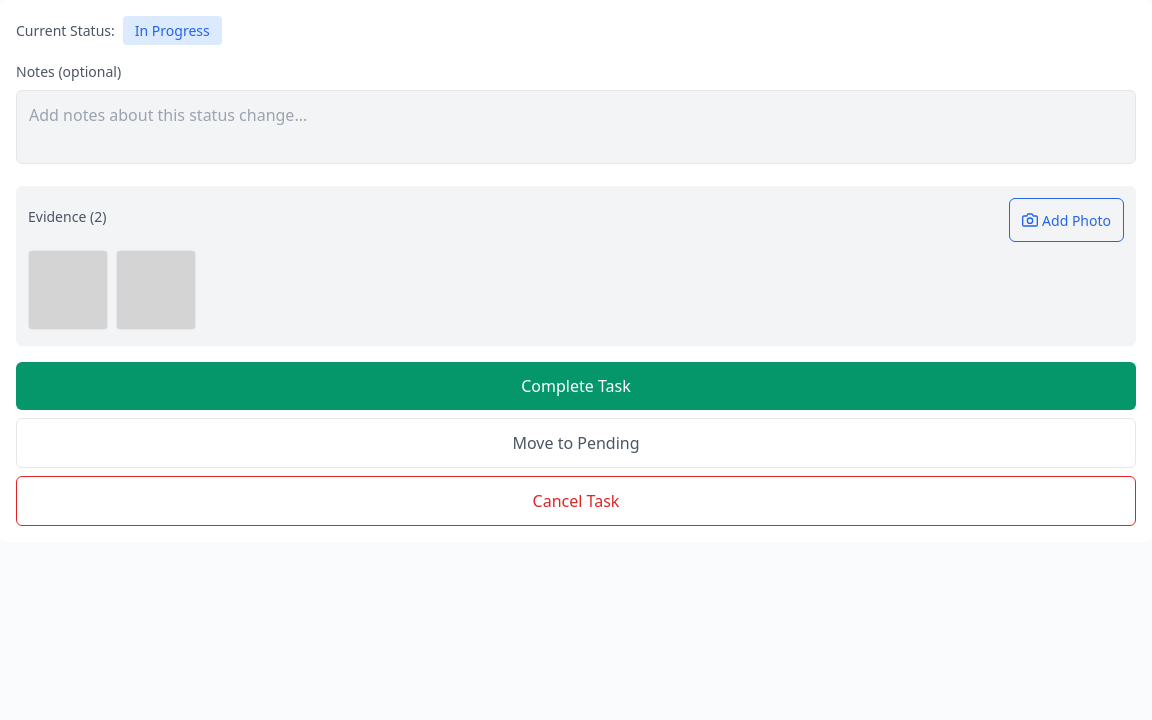
Test case: TaskStatusUpdater - Evidence › shows evidence summary in completion confirmation
// Open confirmation
Click the button with test id "status-button-completed": point(576, 386) [16,362,1136,410]
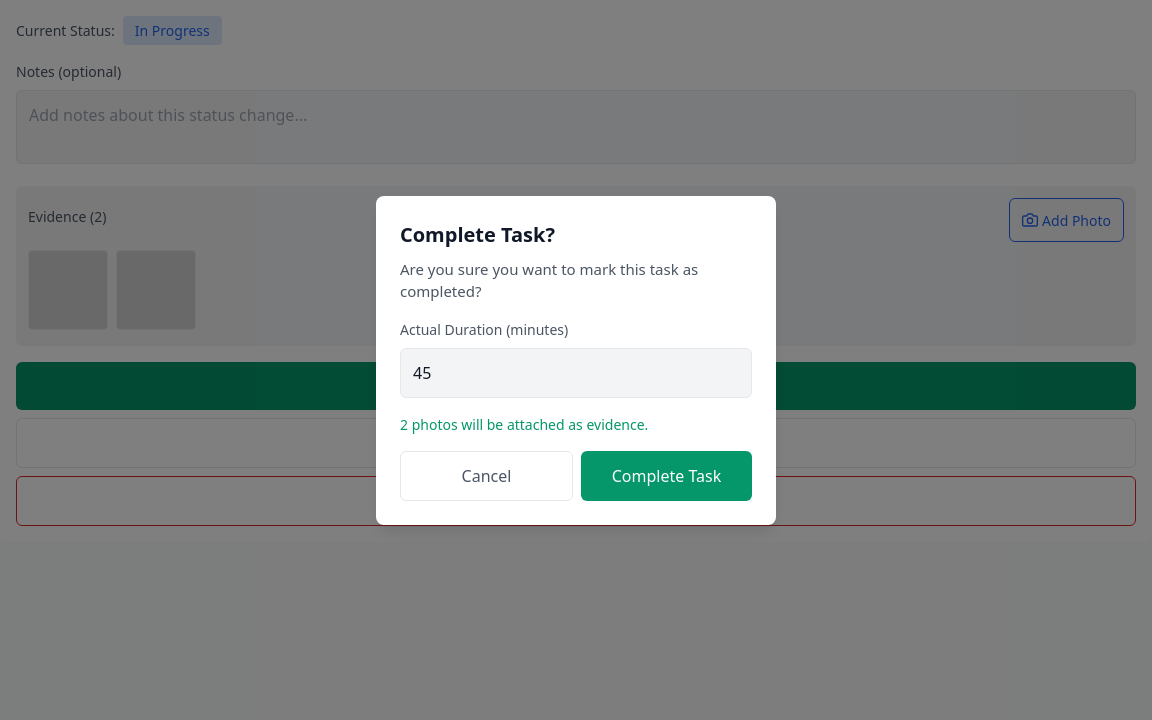
Now the text "2 photos will be attached as evidence." is shown, box [400,414,648,434]
